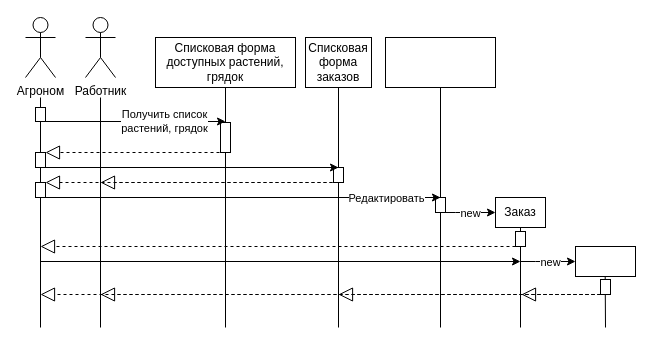
Some shapes in this 653 by 346 pixel diagram are drawn without their labels. Here are the shapes that lost their labels. From the top down, the box of each, then its label:
(384, 36, 496, 88): Форма редактирования заказов
(574, 246, 636, 276): Позиция заказа
